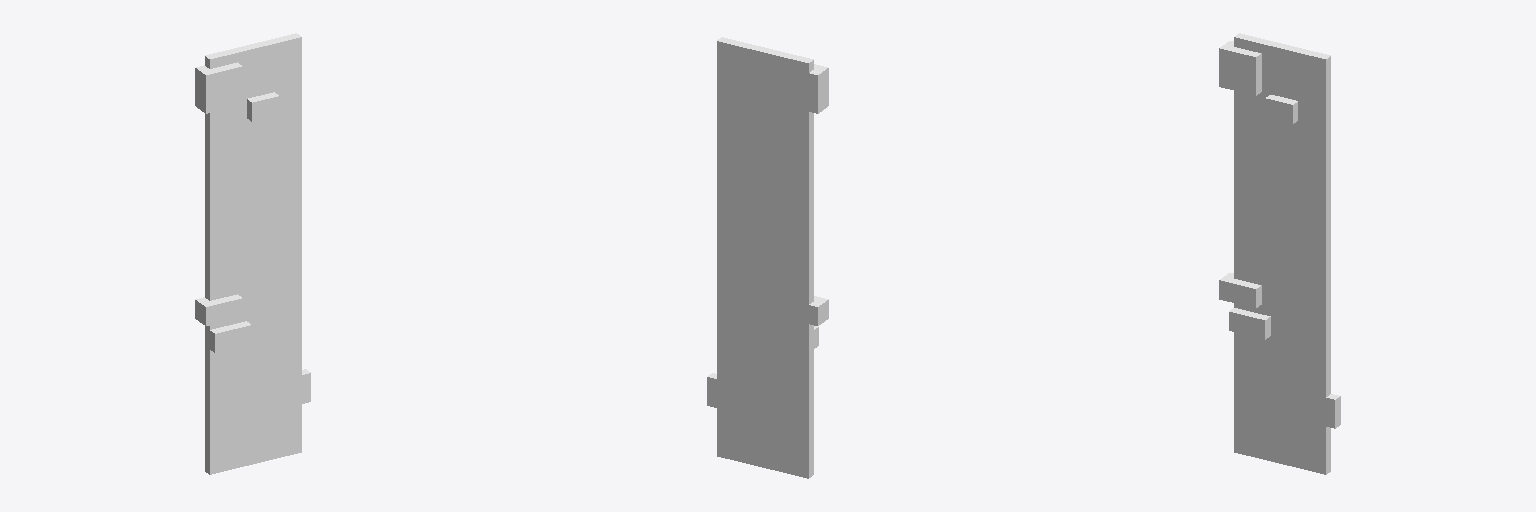
Rendered from ExtraProp-3-Wall_1.obj.
3 renders of one model, left to right at view 1: azimuth 30°, elevation 25°; view 2: azimuth 150°, elevation 25°; view 3: azimuth 330°, elevation 25°, orthographic.
Visible parts, largest first — view 1: Wall_1; view 2: Wall_1; view 3: Wall_1.
Part boxes in pixels (x1,y1,x2,y2): Wall_1: (195, 33, 310, 474); Wall_1: (707, 37, 828, 478); Wall_1: (1219, 33, 1340, 474).
Size of the model in its own units: 1.2 by 4.3 by 0.2.